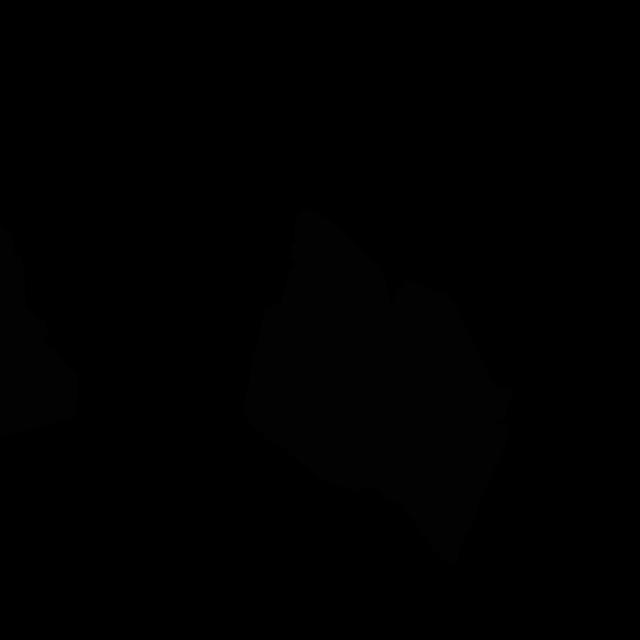cardboard: (241, 209, 426, 512), (390, 279, 514, 567), (0, 223, 78, 436)
